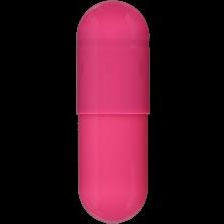55289-890: (0, 0, 224, 224)
